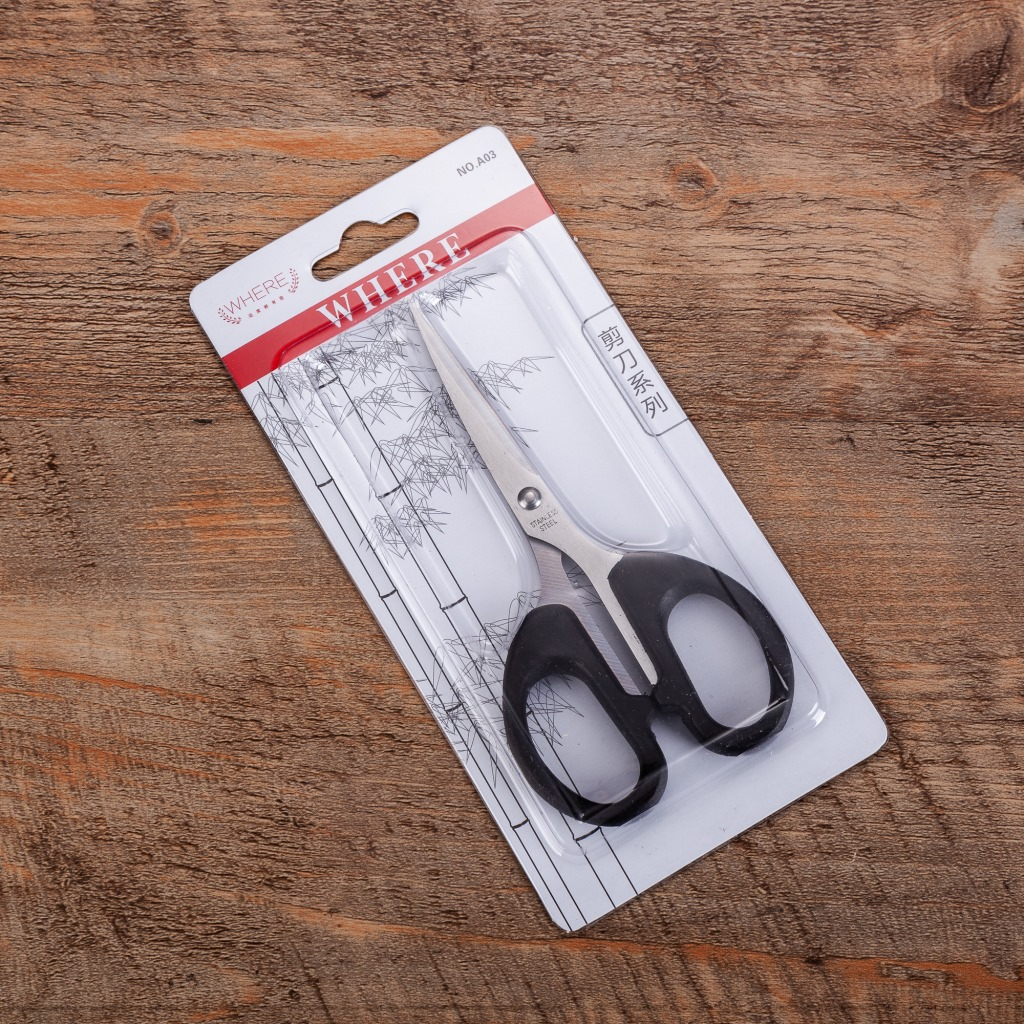scissors: (379, 288, 831, 842)
